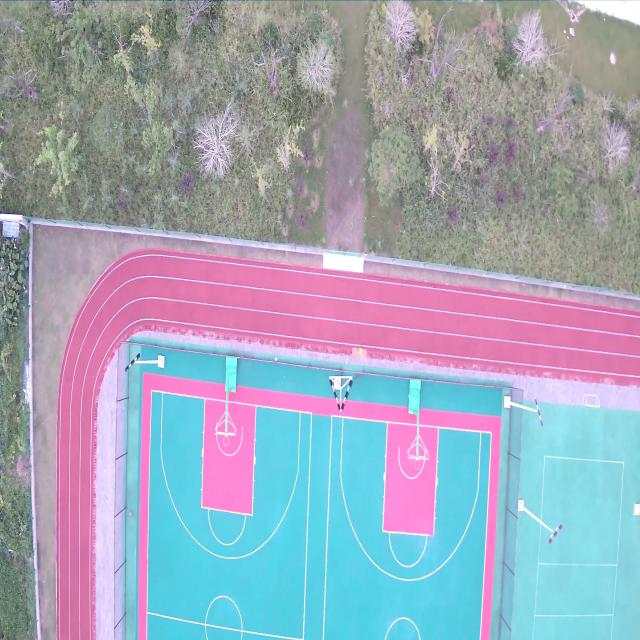UAV: (343, 351, 351, 369)
